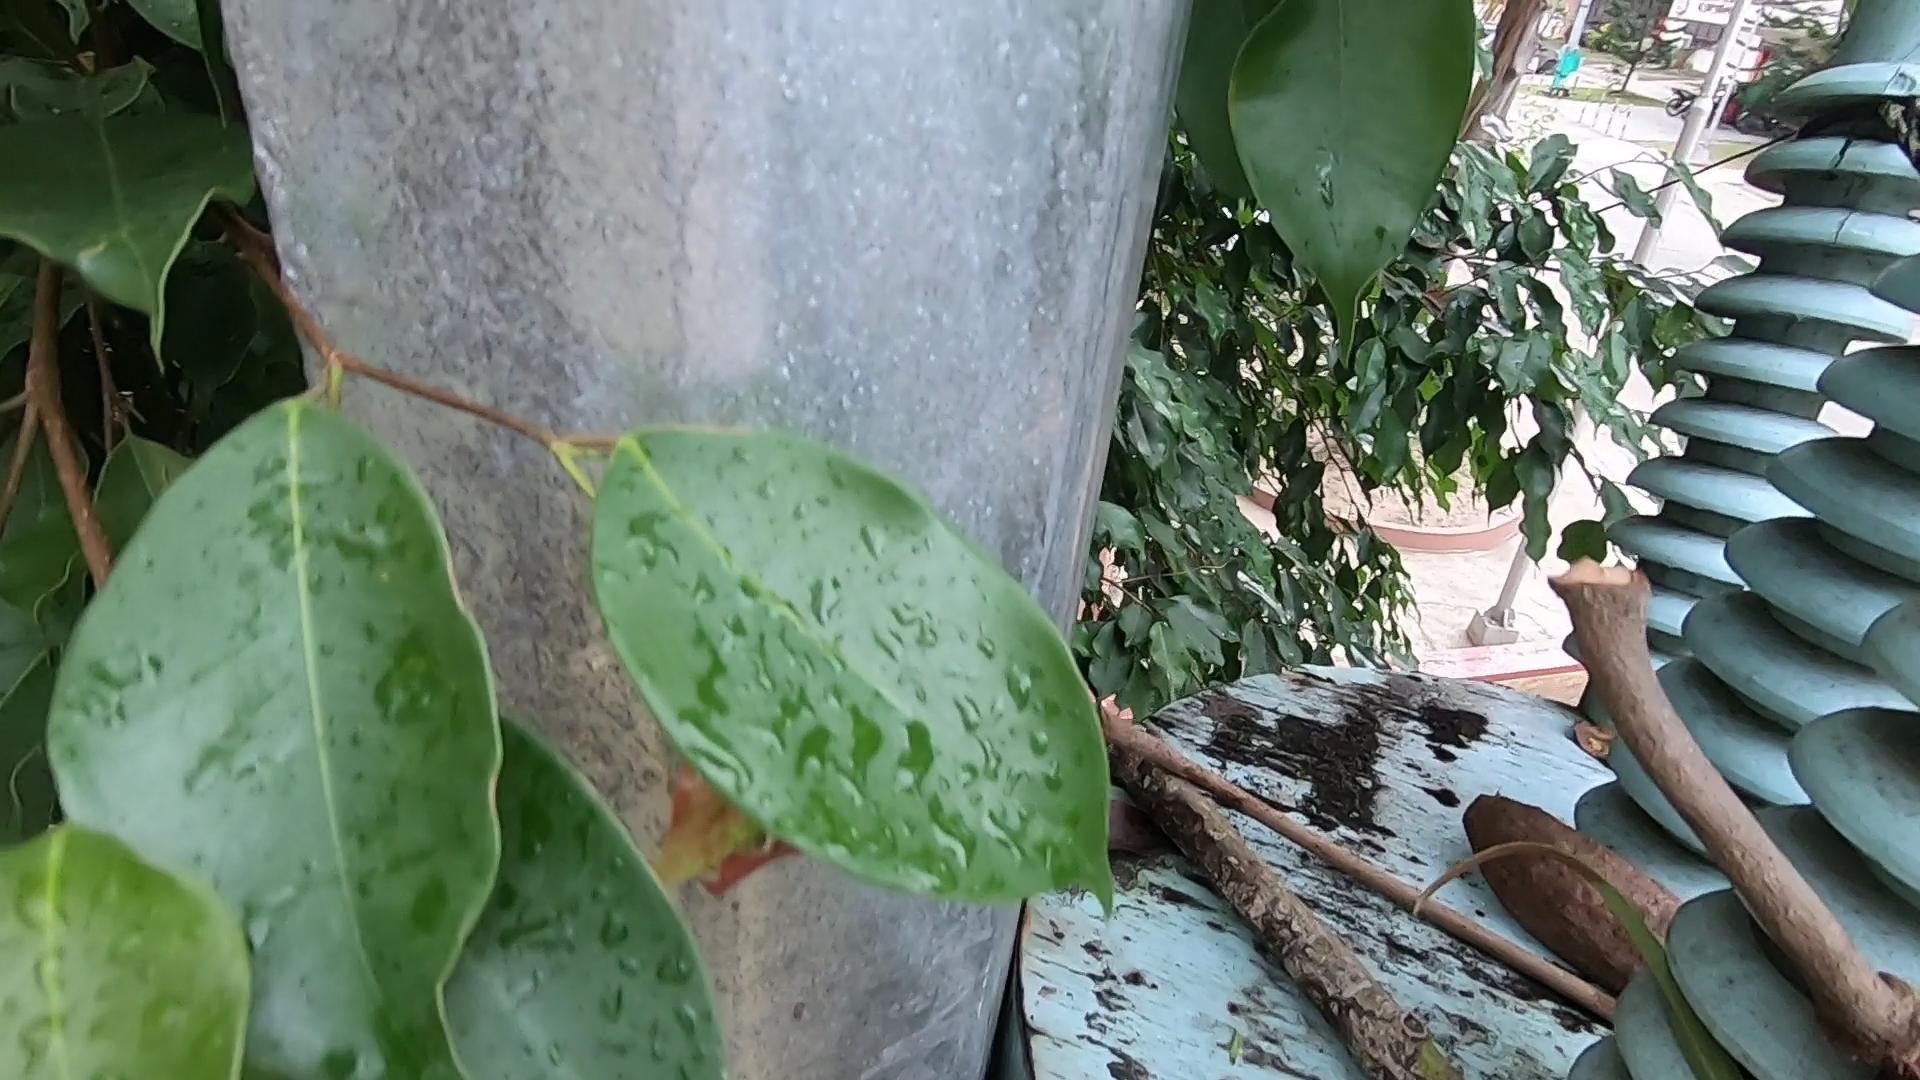branch with leaves: (1085, 707, 1619, 1004)
leaf: (1547, 692, 1664, 807), (1095, 786, 1195, 911)
mahogany fruit: (1443, 771, 1639, 988), (1807, 969, 1920, 1073)
tree branch: (1097, 707, 1549, 1080), (1582, 555, 1913, 1026)
